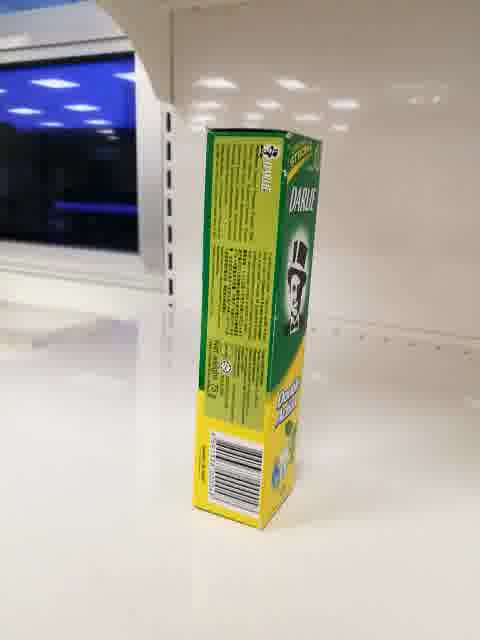toothpaste: (192, 130, 322, 531)
